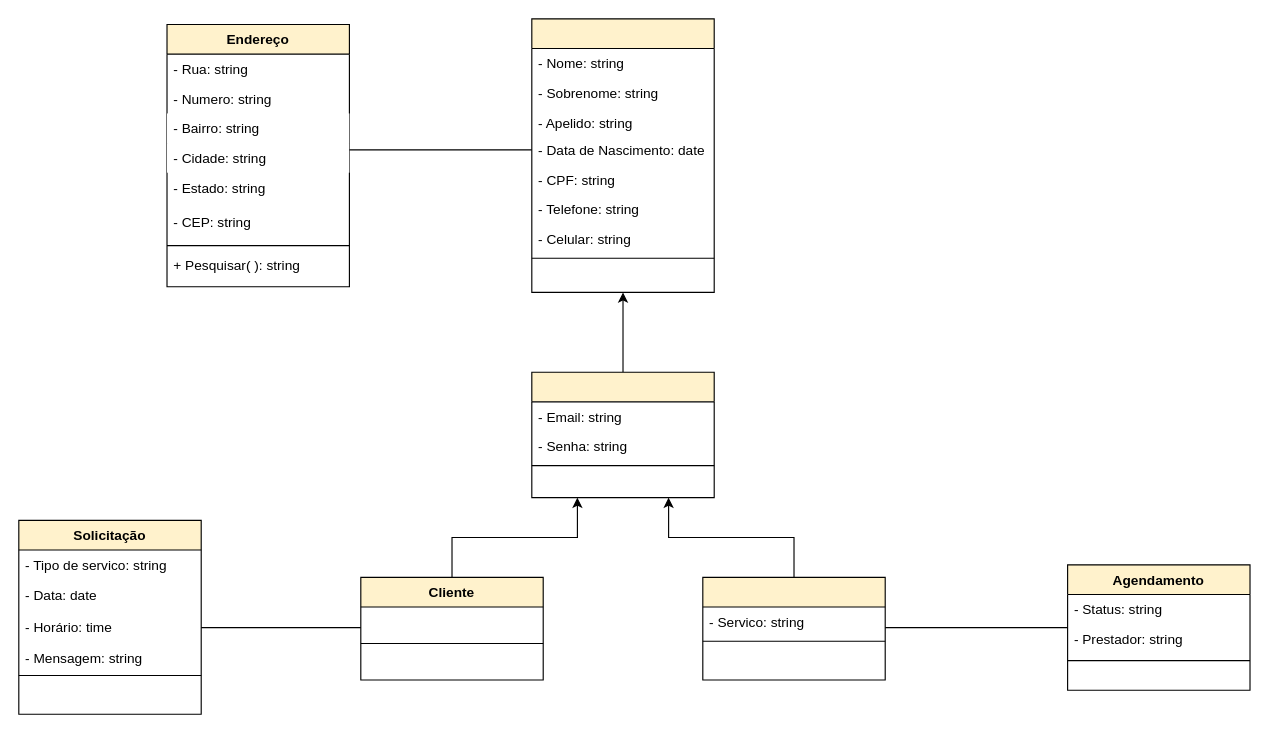
Image size: 1269x733. Some labels were removed from this diagram. The box of each missing label's shape, as (x1, y1, x2, y2) in pixels:
Pessoa: (531, 18, 714, 292)
Prestador: (702, 576, 885, 680)
Usuário: (531, 371, 714, 498)
